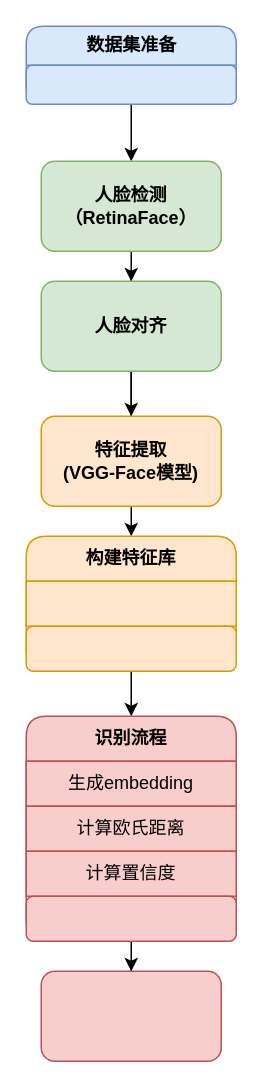
Image size: 263x1088. Some labels were removed from this diagram. Here are the shapes that lost their labels. From the top down, the centre of each, then its label:
(x=130, y=84): 分层抽样
(x=130, y=603): 均值与方差计算
(x=130, y=648): 序列化存储
(x=130, y=918): 排序与判断
(x=130, y=1015): 输出识别结果
